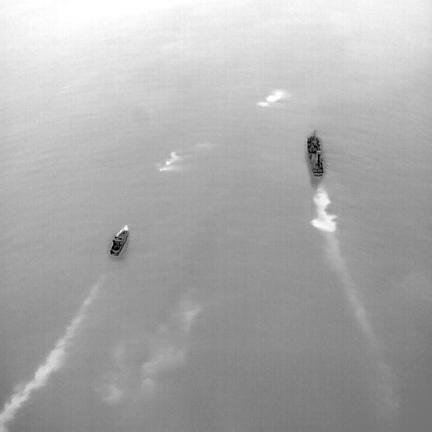flukeprints: (159, 152, 181, 170), (265, 90, 285, 103), (258, 101, 269, 106)
